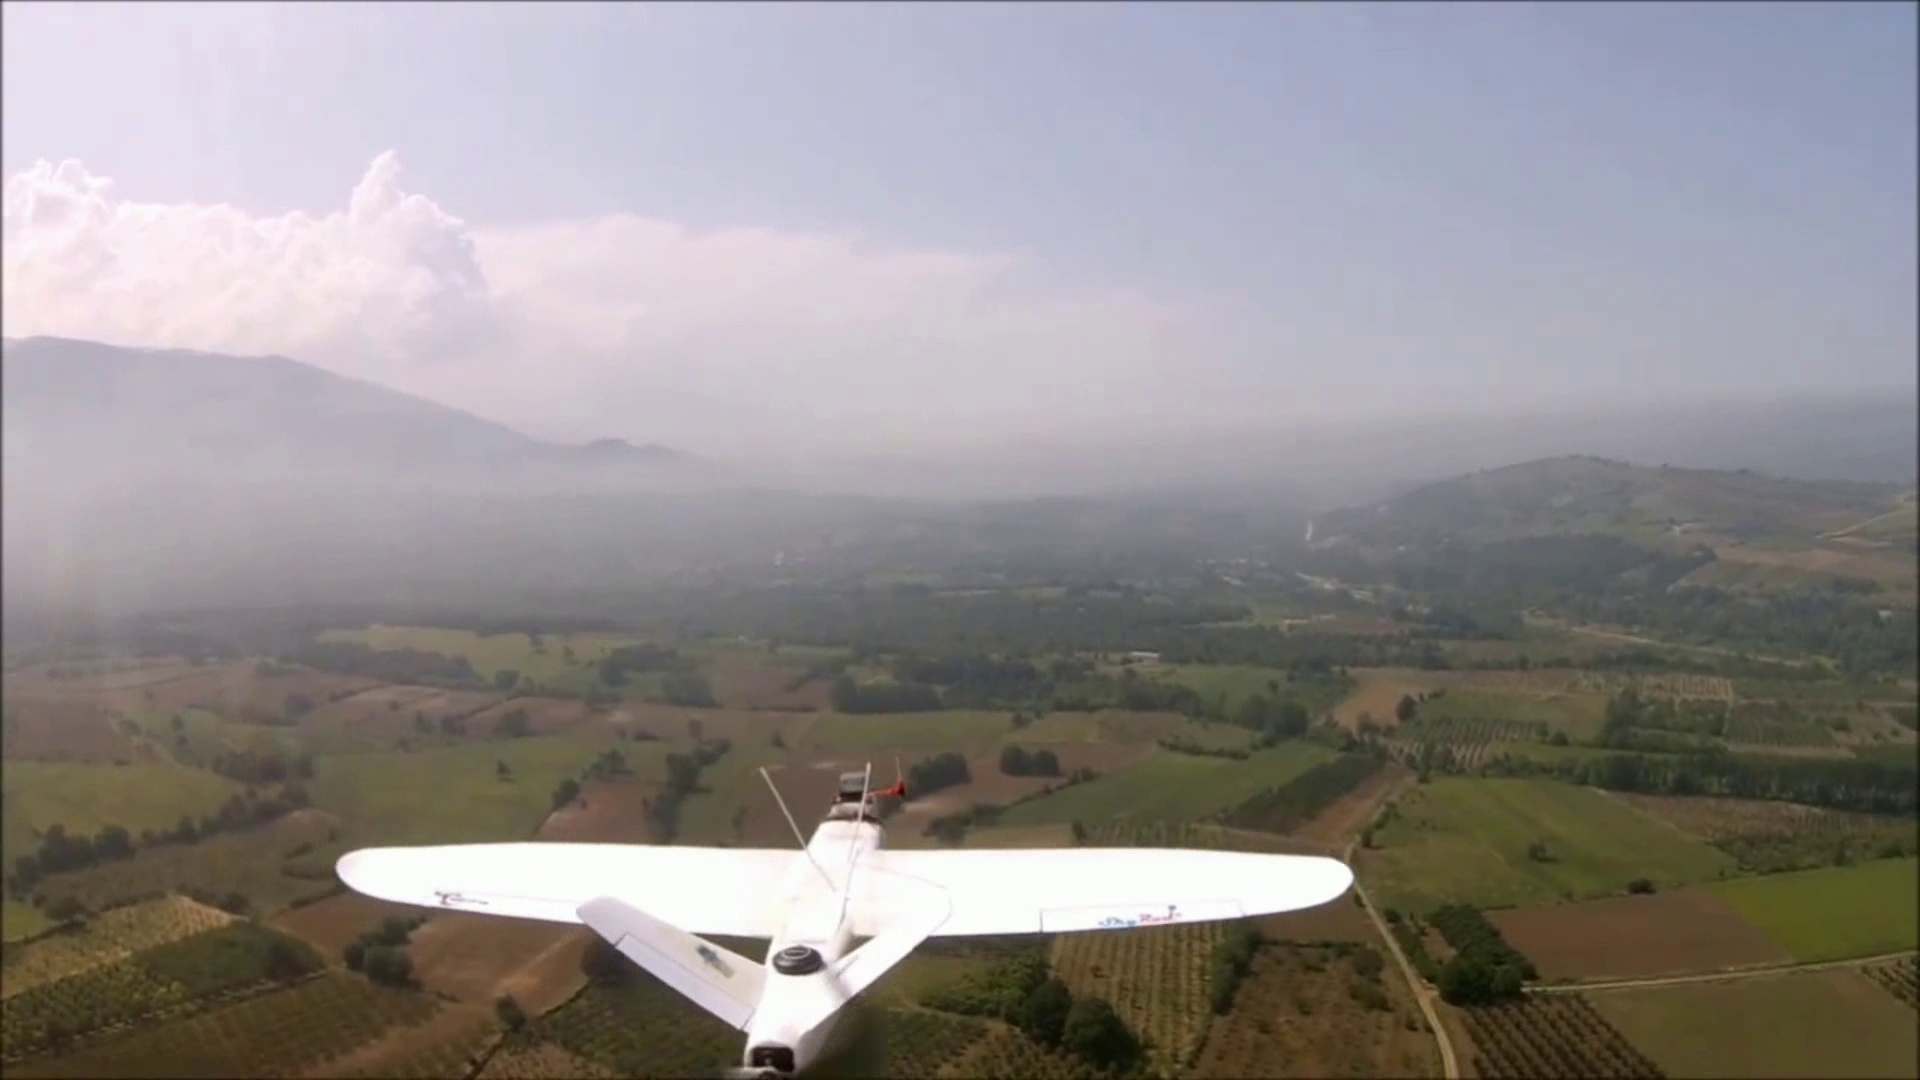airplane: (334, 750, 1356, 1071)
